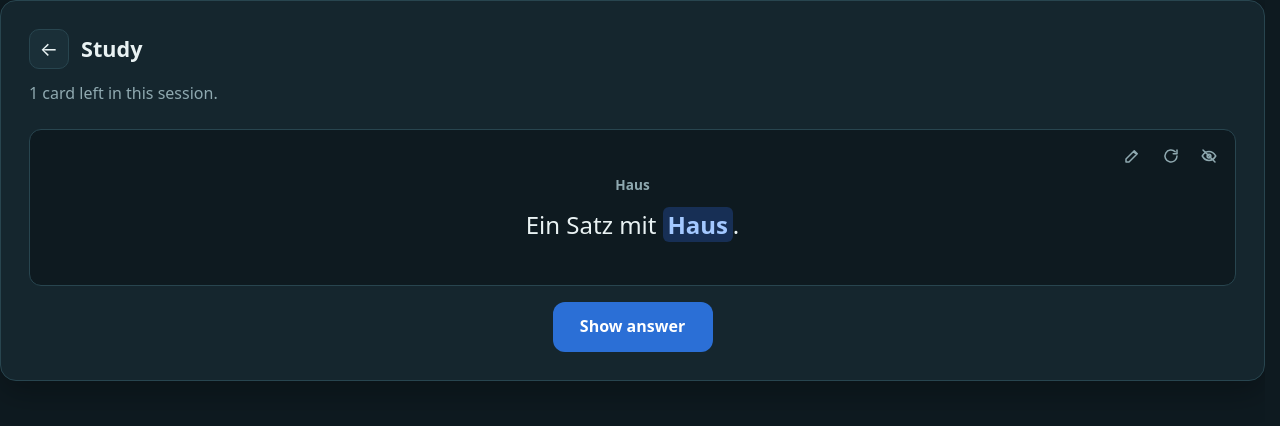
the arrow of a session asked for by the page of a deck goes back to that deck, and any other session goes back to the Study box
Click the button with class "back-button" at [49, 49], box [29,29,69,69]
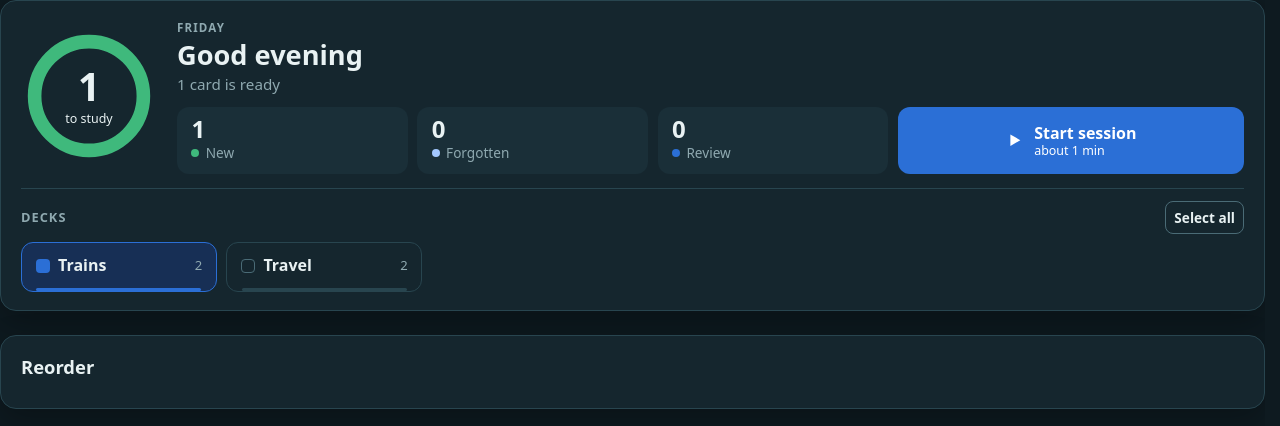
Click the button "Start session about 1 min" at [1071, 140], box [898,107,1244,174]
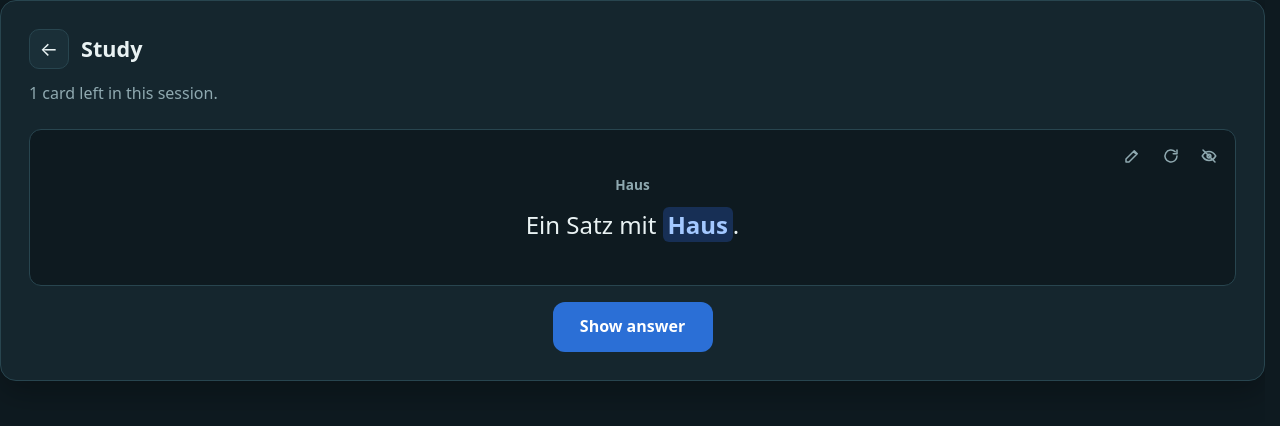
Now the button with class "back-button" has attribute aria-label="Back to Study"
Click the button with class "back-button" at [49, 49], box [29,29,69,69]
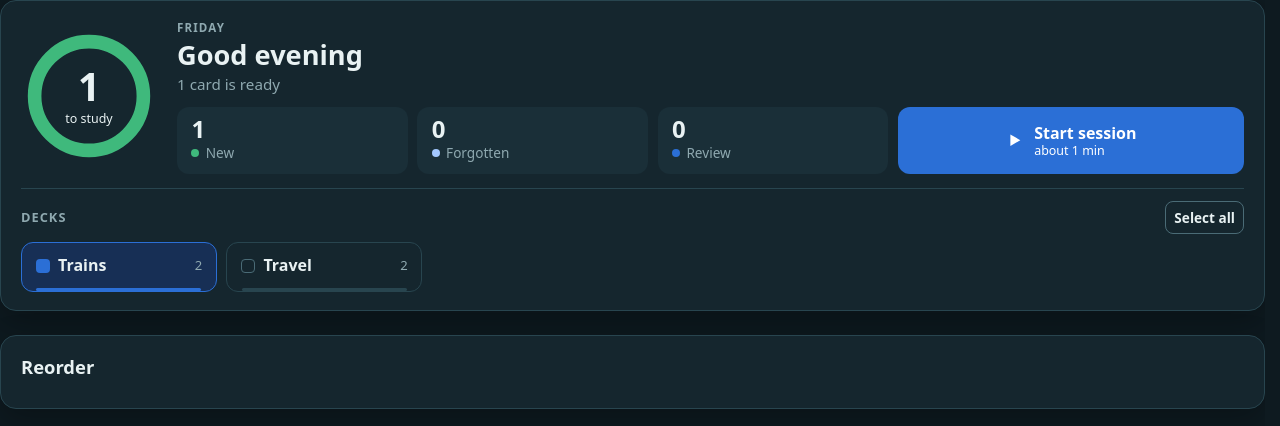
Now the text "1 card is ready" is shown, box [177,74,280,94]
